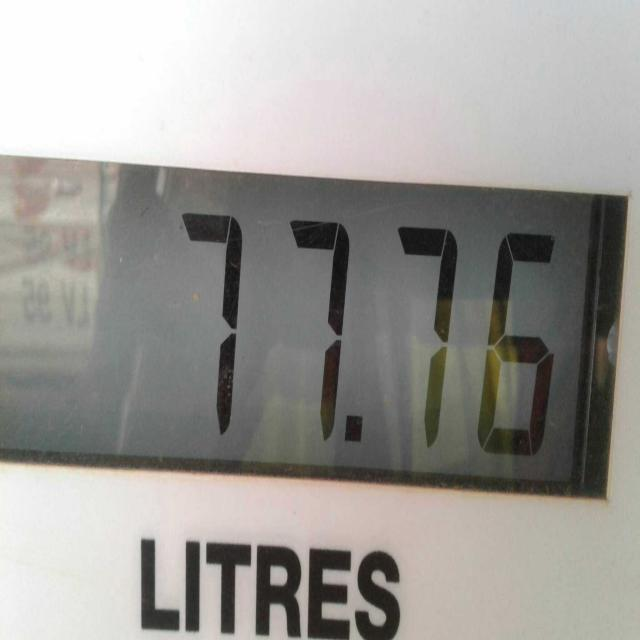.: (332, 387, 374, 471)
6: (469, 229, 573, 462)
7: (156, 193, 253, 443), (275, 194, 355, 461), (379, 208, 460, 464)
